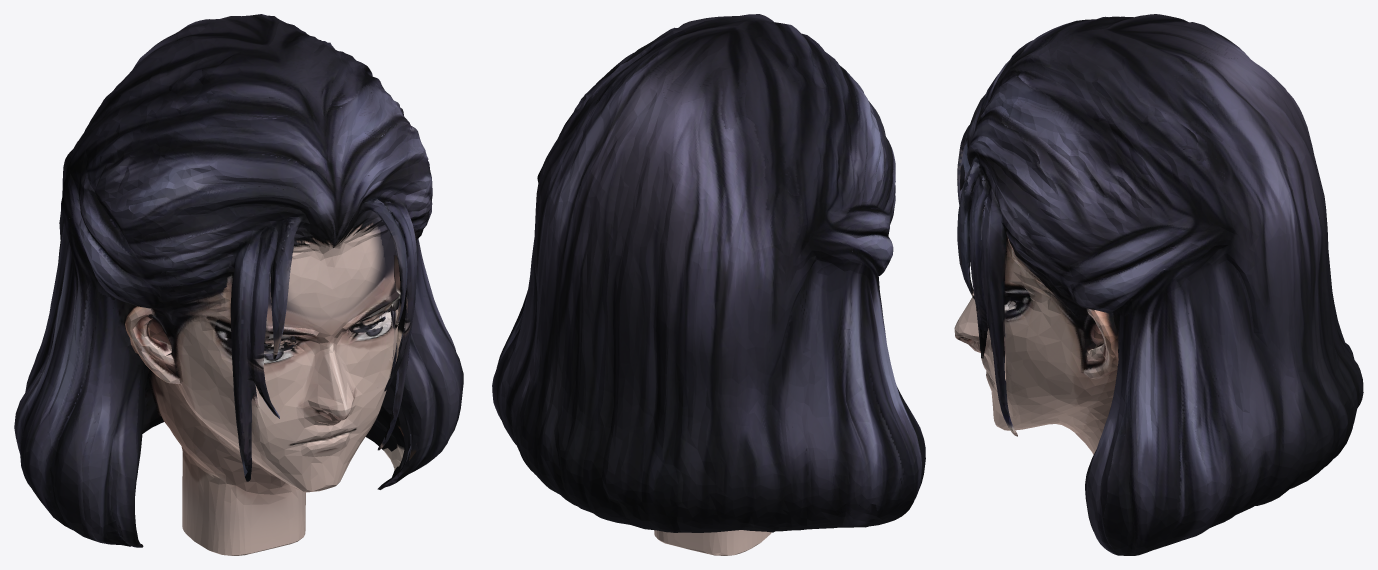
Rendered from side_karasu_repaired_atlas.glb.
The picture shows the model from 3 angles, left to right: view 1: azimuth 30°, elevation 25°; view 2: azimuth 150°, elevation 25°; view 3: azimuth 270°, elevation 25°; orthographic projection. The views are drawn at different scales.
Visible parts, largest first — view 1: temp_mesh.ply; view 2: temp_mesh.ply; view 3: temp_mesh.ply.
Part boxes in pixels (x1,y1,x2,y2): temp_mesh.ply: (14,14,463,555); temp_mesh.ply: (492,14,925,555); temp_mesh.ply: (954,14,1363,555).
Size of the model in its own units: 1.75 by 1.97 by 1.49.
1 material, 1 textured.
